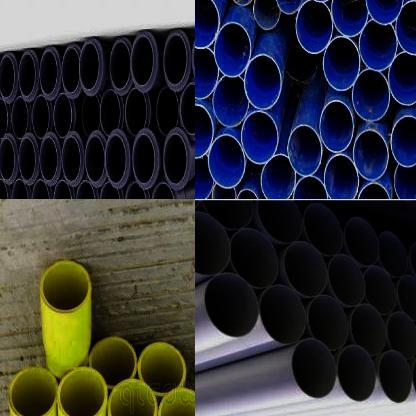pipe: (205, 272, 258, 338), (230, 228, 279, 289), (258, 284, 306, 344), (39, 260, 91, 314), (292, 338, 337, 399), (138, 342, 186, 397), (89, 336, 137, 389), (284, 240, 327, 298), (9, 366, 57, 416), (58, 367, 106, 416), (195, 211, 230, 276), (308, 294, 348, 350), (338, 345, 376, 402), (244, 54, 282, 110), (358, 19, 398, 72), (303, 203, 343, 256), (208, 133, 245, 189), (241, 110, 279, 164), (352, 68, 390, 122), (295, 0, 333, 54), (323, 36, 360, 91), (257, 200, 303, 244), (214, 22, 250, 78), (212, 75, 250, 128), (328, 254, 366, 307), (162, 28, 192, 92), (350, 303, 386, 356), (287, 124, 322, 177), (319, 100, 354, 153), (108, 379, 157, 416), (353, 130, 389, 180), (162, 128, 190, 192), (132, 127, 160, 190), (130, 30, 158, 93), (344, 217, 379, 267), (379, 350, 412, 403), (202, 199, 255, 232), (363, 266, 397, 315), (323, 154, 359, 199), (261, 153, 296, 199), (388, 50, 416, 106), (104, 128, 130, 188), (386, 311, 416, 360), (79, 39, 104, 97), (109, 36, 133, 96), (379, 230, 408, 278), (331, 0, 368, 37), (390, 115, 416, 167), (125, 87, 151, 138), (85, 129, 107, 188), (39, 46, 62, 101), (100, 86, 124, 138), (195, 47, 219, 99), (61, 132, 84, 186), (195, 0, 220, 49), (39, 132, 61, 187), (156, 84, 179, 136), (395, 0, 416, 55), (18, 48, 39, 102), (61, 44, 82, 98), (18, 133, 39, 185), (195, 103, 214, 159), (159, 387, 195, 416), (54, 94, 76, 138), (0, 51, 18, 104), (365, 0, 403, 25), (396, 274, 416, 321), (0, 133, 18, 185), (180, 79, 195, 140), (11, 96, 32, 139), (32, 95, 52, 139), (292, 175, 328, 199), (394, 160, 416, 199), (195, 154, 214, 199), (81, 94, 101, 136), (252, 0, 280, 30), (151, 176, 179, 199), (356, 182, 391, 199), (124, 178, 150, 199), (76, 178, 100, 199), (53, 178, 75, 199), (0, 97, 11, 139), (99, 181, 124, 199), (31, 179, 53, 199), (11, 178, 31, 199), (211, 183, 236, 199), (275, 0, 303, 14), (235, 188, 259, 199), (410, 241, 416, 285), (0, 178, 11, 199)
